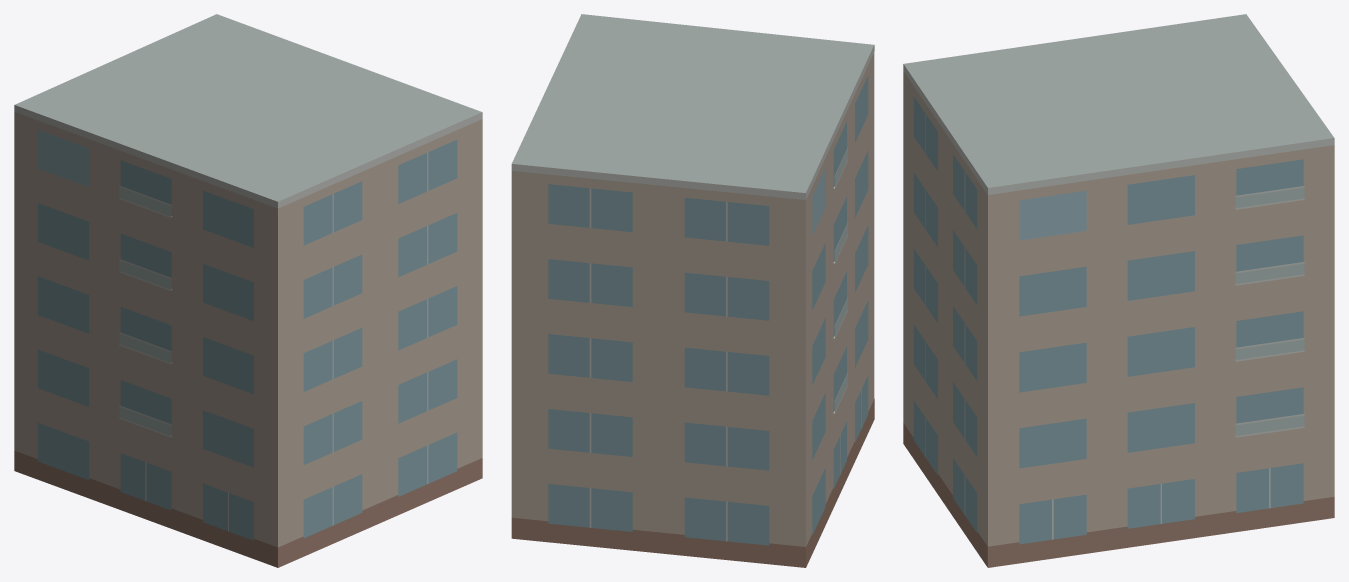
Rendered from survey-upis-32812438.glb.
3 renders of one model, left to right at view 1: azimuth 30°, elevation 25°; view 2: azimuth 150°, elevation 25°; view 3: azimuth 270°, elevation 25°, orthographic. The views are drawn at different scales.
Visible parts, largest first — view 1: survey-upis-32812438.tmp; view 2: survey-upis-32812438.tmp; view 3: survey-upis-32812438.tmp.
Part boxes in pixels (x1=…): survey-upis-32812438.tmp: x1=14, y1=14, x2=482, y2=567; survey-upis-32812438.tmp: x1=511, y1=14, x2=874, y2=567; survey-upis-32812438.tmp: x1=903, y1=14, x2=1334, y2=567.
Size of the model in its own units: 12.98 by 13.2 by 13.59.
